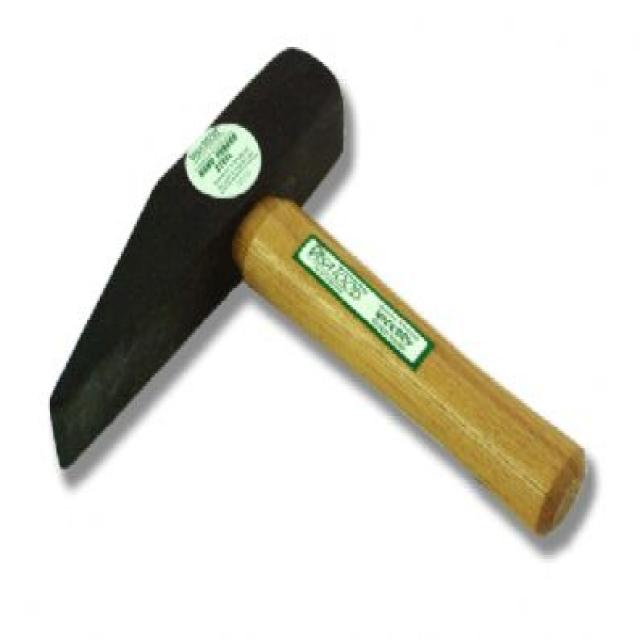hammer: (51, 50, 585, 533)
